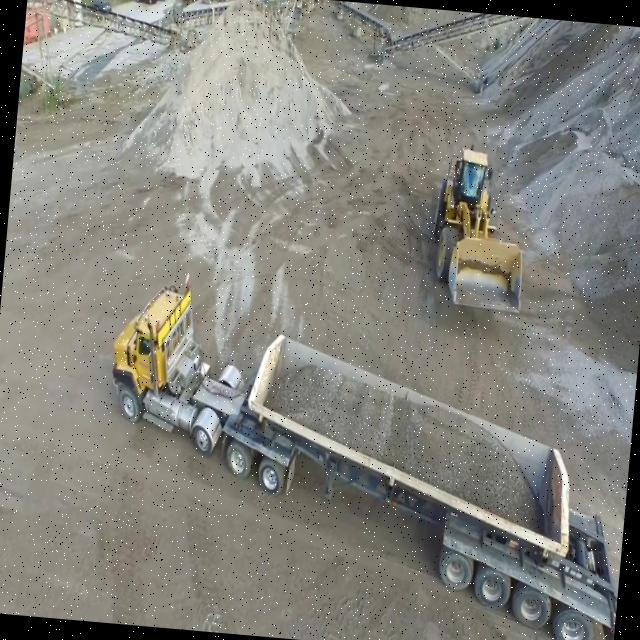Dump Truck: (87, 262, 640, 640)
Loader: (424, 137, 535, 321)
